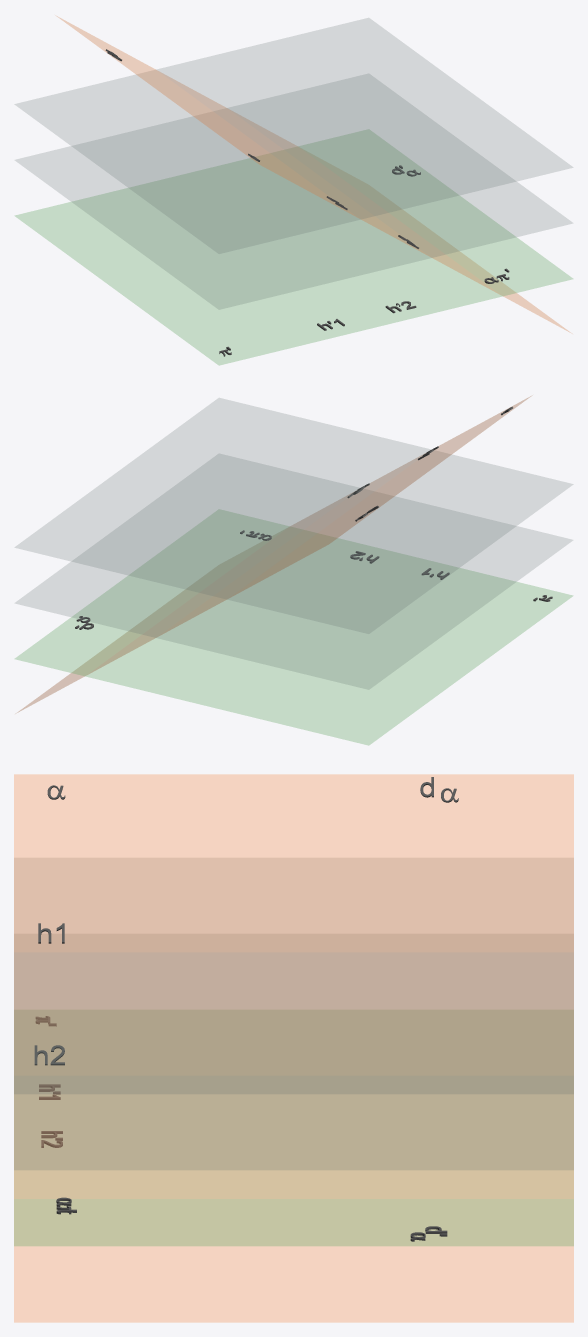
The model's file is reta_declive.glb.
3 renders of one model, top to bottom at view 1: azimuth 30°, elevation 25°; view 2: azimuth 150°, elevation 25°; view 3: azimuth 270°, elevation 25°, orthographic. The views are drawn at different scales.
Visible parts, largest first — view 1: root; view 2: root; view 3: root.
Boxes of the visible parts, x1,y1,x2,y2 form: root: (15,16,572,365); root: (15,396,572,745); root: (14,774,573,1322).
Size of the model in its own units: 2.54 by 1.69 by 2.54.
